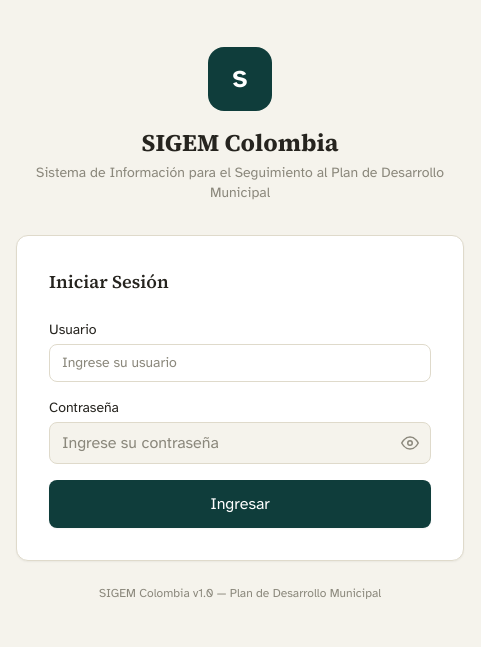
Test case: LoginPage › muestra el detalle del error devuelto por el API
Type "ana" into the field labelled "Usuario" at x=240, y=363, box top-left (49, 344), bottom-right (431, 382)
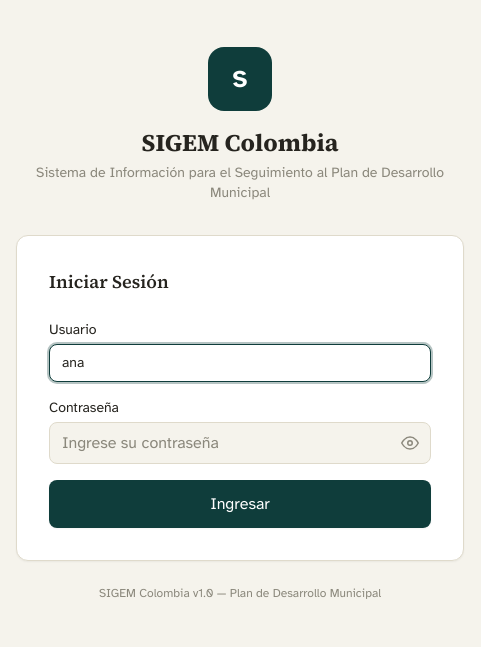
Type "secreta" into the password field with placeholder "Ingrese su contraseña" at x=240, y=443, box top-left (49, 422), bottom-right (431, 464)
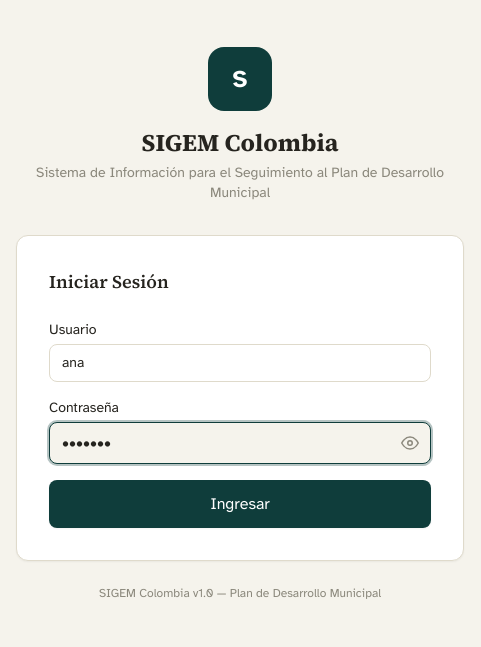
Click the button "Ingresar" at x=240, y=504, box top-left (49, 480), bottom-right (431, 528)
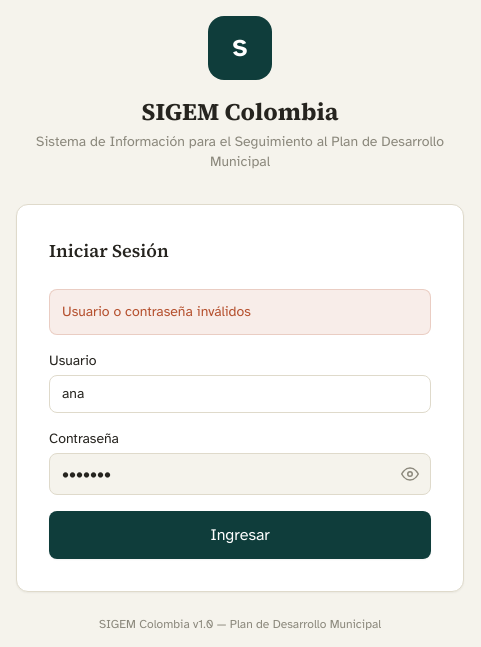
Expected: the heading "Iniciar Sesión" is shown, top-left (49, 238), bottom-right (169, 263)
Now the text "Usuario o contraseña inválidos" is shown, box top-left (49, 289), bottom-right (431, 335)
